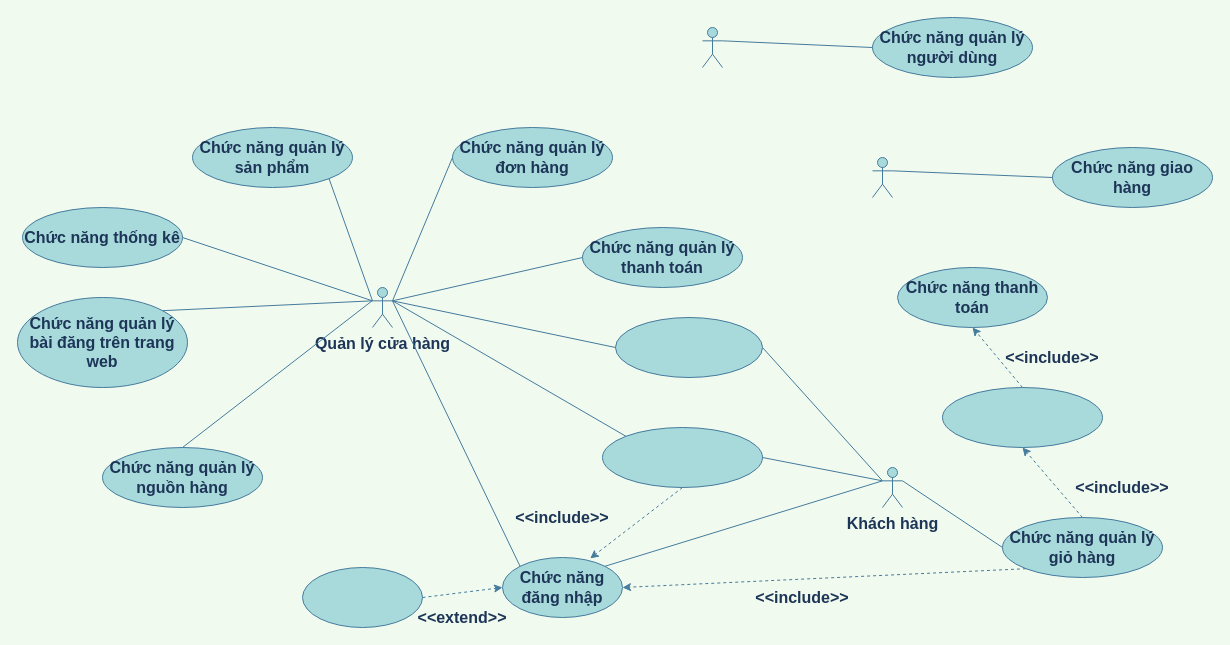
The diagram is 1230 pixels wide and 645 high, and some of its shapes have lost their labels. Each missing label, with the centre of its shape:
"Chức năng mua hàng" goes at (1022,417).
"Chức năng nhắn tin" goes at (682,457).
"Chức năng quản lý hồ sơ" goes at (362,597).
"Chức năng tìm kiếm" goes at (688,347).
"Nhân viên giao hàng" goes at (882,177).
"Quản trị viên" goes at (712,47).
